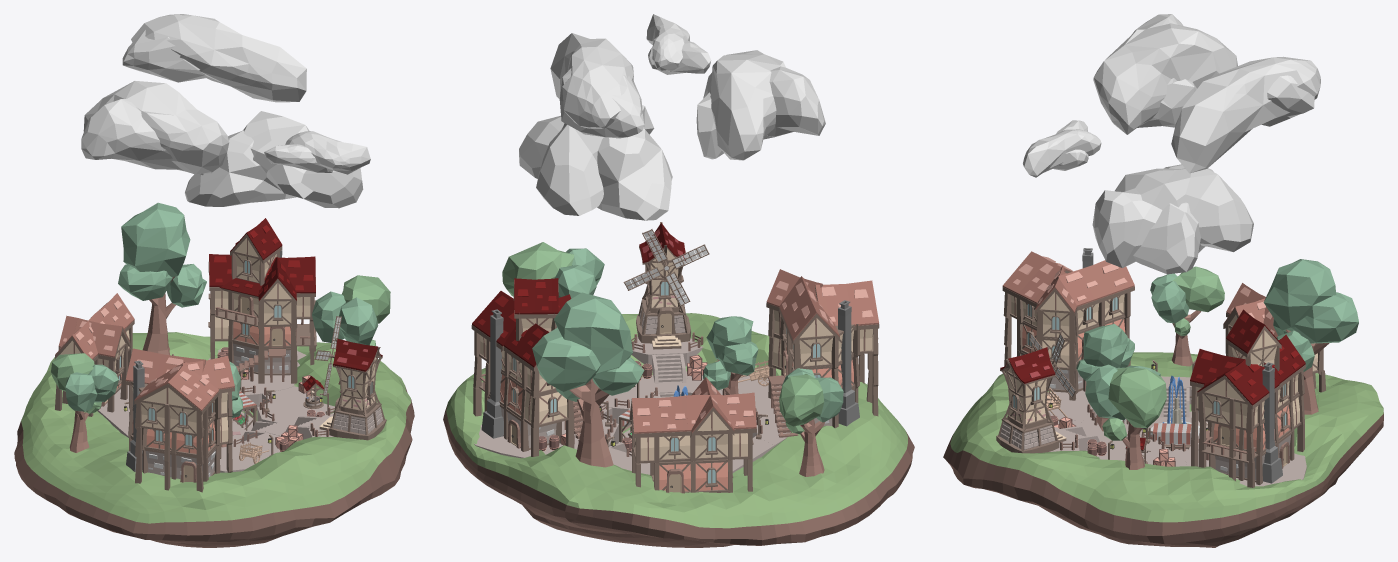
The picture shows the model from 3 angles, left to right: view 1: azimuth 30°, elevation 25°; view 2: azimuth 150°, elevation 25°; view 3: azimuth 270°, elevation 25°; orthographic projection. The views are drawn at different scales.
Parts seen in each view (by area): view 1: Plane.1870, Cloud02.001, Cloud01.001, Cloud01, BigTree02.001, BigTree01, BigTree01.001, Cloud02, WallA.037, Windmill_Base01.001, Plane.2624, Roof01.013 (+25 smaller); view 2: Plane.1870, Cloud01, BigTree02.001, Cloud01.001, Cloud02.001, BigTree01.001, BigTree01, BigTree02, Cloud02, Roof01.002, WallA.037, Roof01.013 (+25 smaller); view 3: Plane.1870, Cloud01, Cloud01.001, Cloud02.001, BigTree02.001, BigTree01, BigTree01.001, Cloud02, Roof01.013, BigTree02, WallA.037, Windmill_Base01.001 (+19 smaller).
Boxes of the visible parts, left/top/right/bottom form: Plane.1870: left=14, top=332, right=414, bottom=547; Cloud02.001: left=122, top=14, right=306, bottom=102; Cloud01.001: left=81, top=81, right=229, bottom=175; Cloud01: left=185, top=111, right=363, bottom=208; BigTree02.001: left=118, top=202, right=206, bottom=355; BigTree01: left=312, top=275, right=390, bottom=384; BigTree01.001: left=51, top=353, right=118, bottom=452; Cloud02: left=264, top=131, right=370, bottom=174; WallA.037: left=134, top=362, right=219, bottom=414; Windmill_Base01.001: left=329, top=400, right=386, bottom=440; Plane.2624: left=257, top=392, right=334, bottom=435; Roof01.013: left=125, top=348, right=205, bottom=385; Plane.1870: left=443, top=313, right=914, bottom=545; Cloud01: left=519, top=105, right=672, bottom=220; BigTree02.001: left=532, top=292, right=644, bottom=467; Cloud01.001: left=696, top=50, right=825, bottom=160; Cloud02.001: left=550, top=33, right=644, bottom=138; BigTree01.001: left=779, top=368, right=843, bottom=476; BigTree01: left=502, top=242, right=604, bottom=298; BigTree02: left=703, top=316, right=758, bottom=394; Cloud02: left=646, top=14, right=711, bottom=74; Roof01.002: left=629, top=395, right=688, bottom=437; WallA.037: left=815, top=280, right=879, bottom=330; Roof01.013: left=779, top=276, right=839, bottom=344; Plane.1870: left=943, top=352, right=1383, bottom=547; Cloud01: left=1092, top=164, right=1253, bottom=274; Cloud01.001: left=1093, top=14, right=1237, bottom=134; Cloud02.001: left=1171, top=56, right=1320, bottom=173; BigTree02.001: left=1263, top=259, right=1358, bottom=414; BigTree01: left=1085, top=364, right=1166, bottom=469; BigTree01.001: left=1150, top=266, right=1224, bottom=366; Cloud02: left=1023, top=120, right=1101, bottom=177; Roof01.013: left=1053, top=260, right=1134, bottom=310; BigTree02: left=1076, top=324, right=1134, bottom=431; WallA.037: left=1002, top=251, right=1072, bottom=307; Windmill_Base01.001: left=996, top=415, right=1059, bottom=453.
Bounding box in the file's own units: 39.54 × 44.05 × 39.24.
